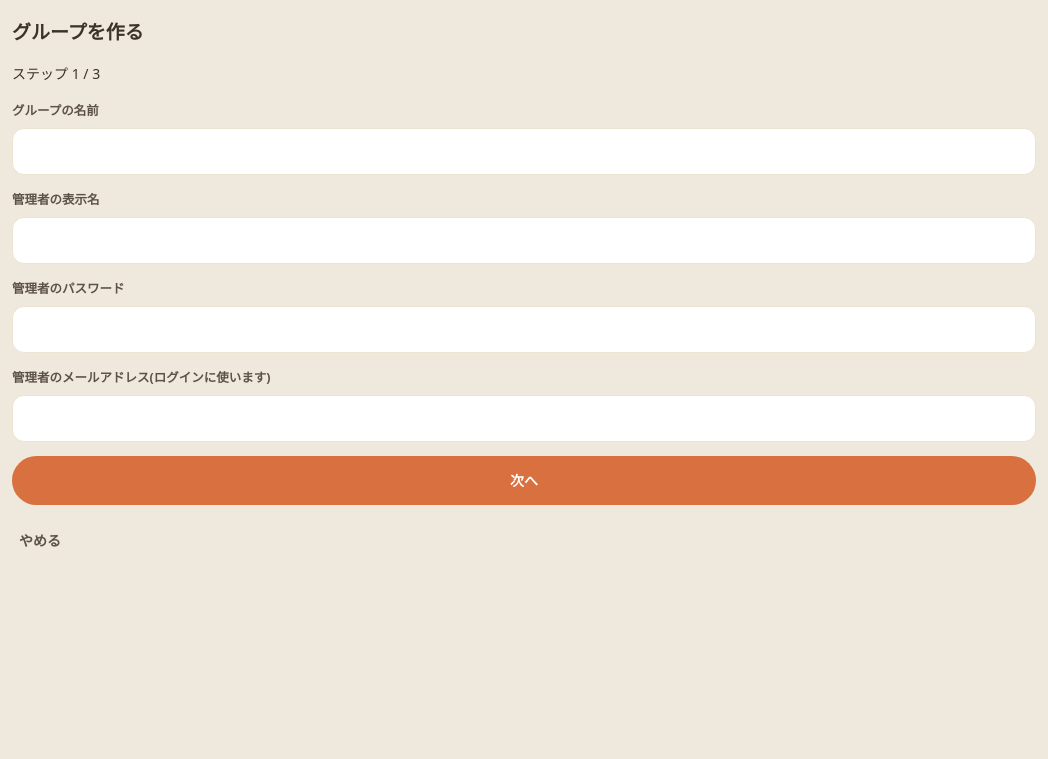
Test: ProvisionWizardView › moves to the storage step once the information is filled in
The width and height of the screenshot is (1048, 759).
Step 1. Type "みどり台グループ" into the field with test id "group-name" → (524, 151), box [12,128,1036,175]
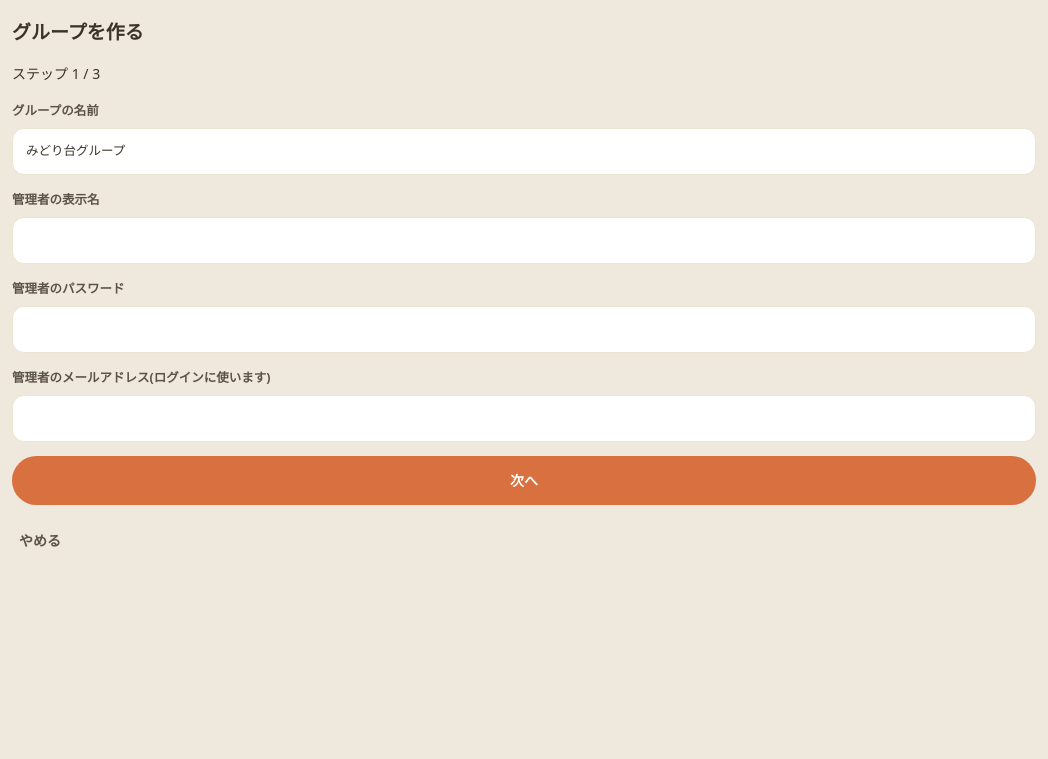
Step 2. Type "渡辺 けい" into the field with test id "admin-display-name" → (524, 240), box [12,217,1036,264]
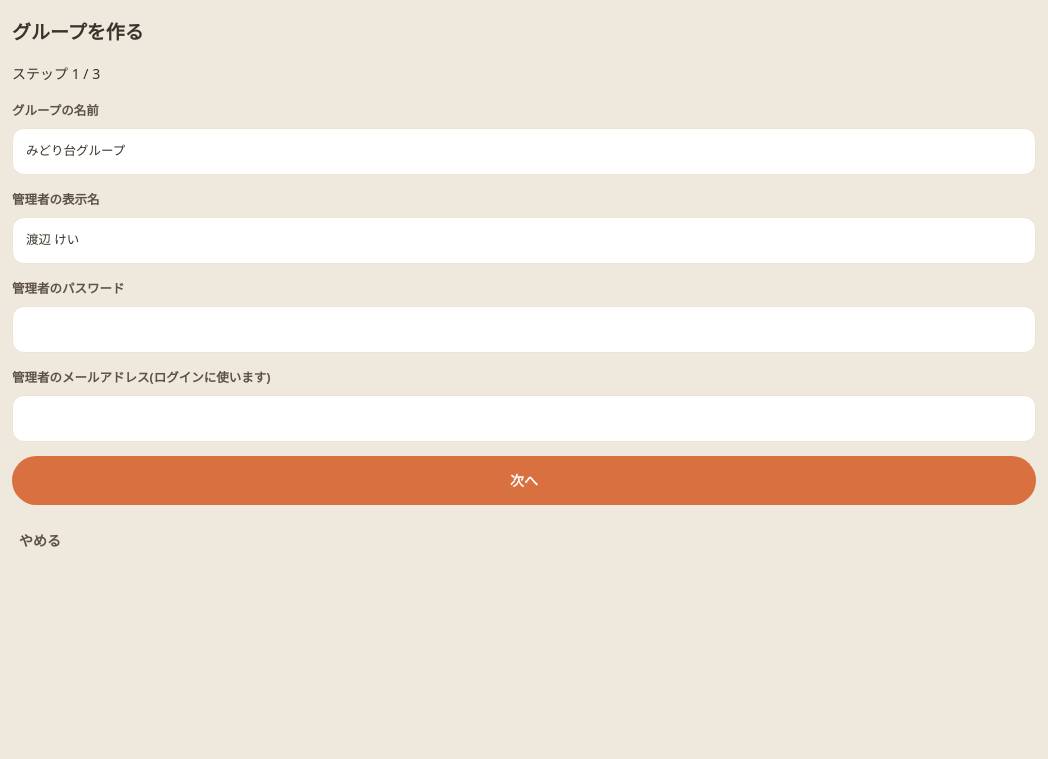
Step 3. Type "admin-pass-1234" into the password field with test id "admin-password" → (524, 329), box [12,306,1036,353]
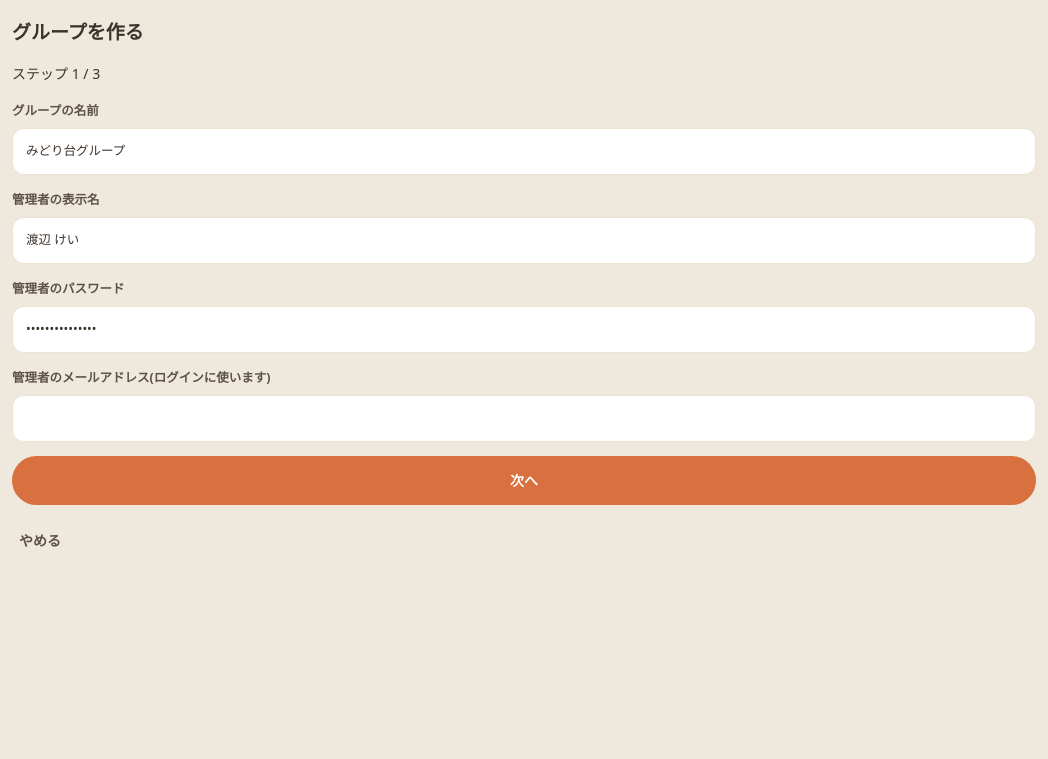
Step 4. Type "watanabe@example.com" into the field with test id "admin-email" → (524, 418), box [12,395,1036,442]
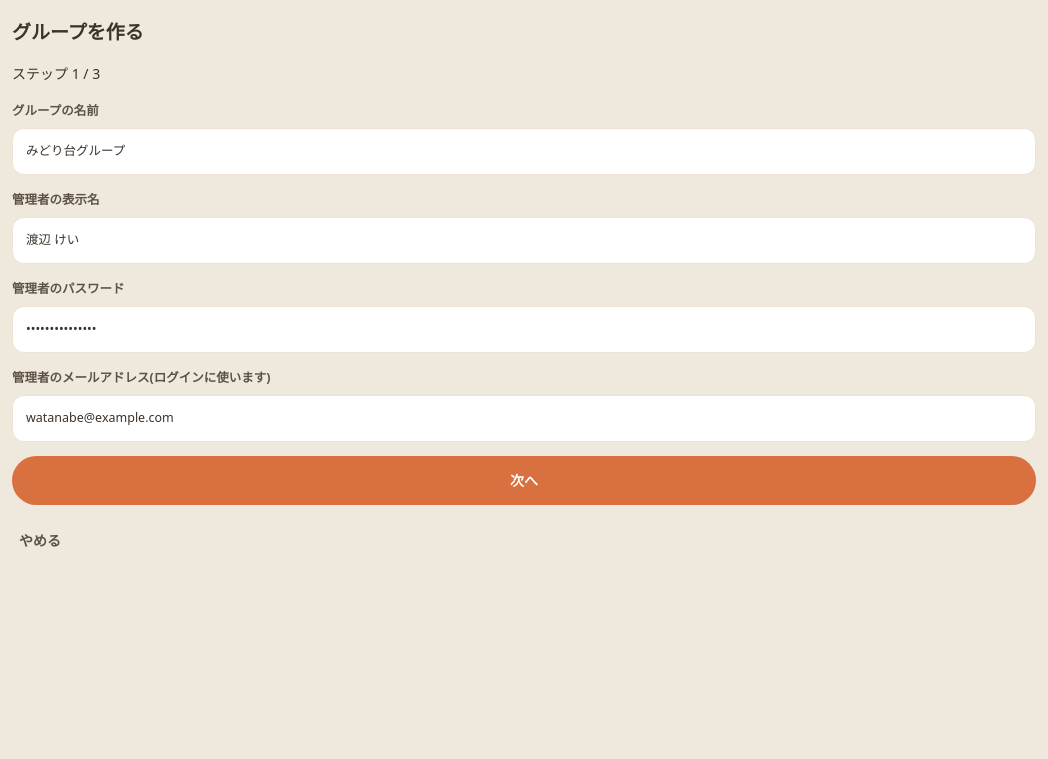
Step 5. Click the button with test id "next" → click(524, 480), box [12,456,1036,505]
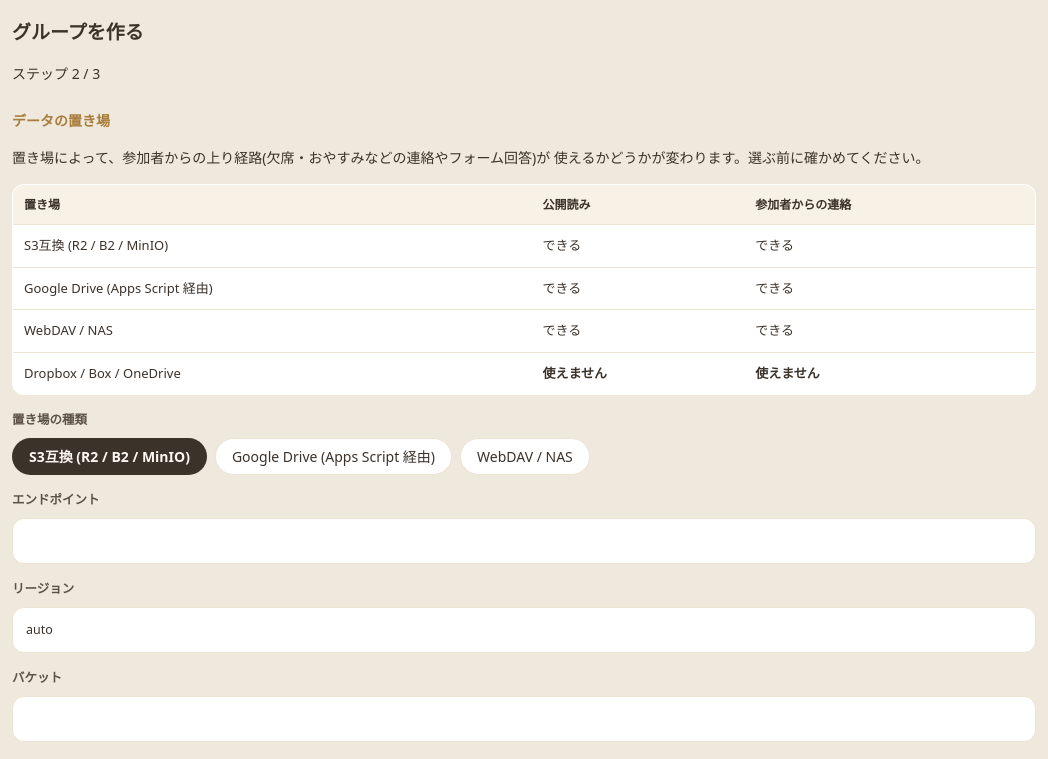
Now the field with test id "endpoint" is shown, box [12,518,1036,564]
